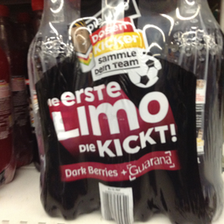soda: (89, 1, 160, 222), (153, 1, 222, 224), (28, 1, 97, 220)
